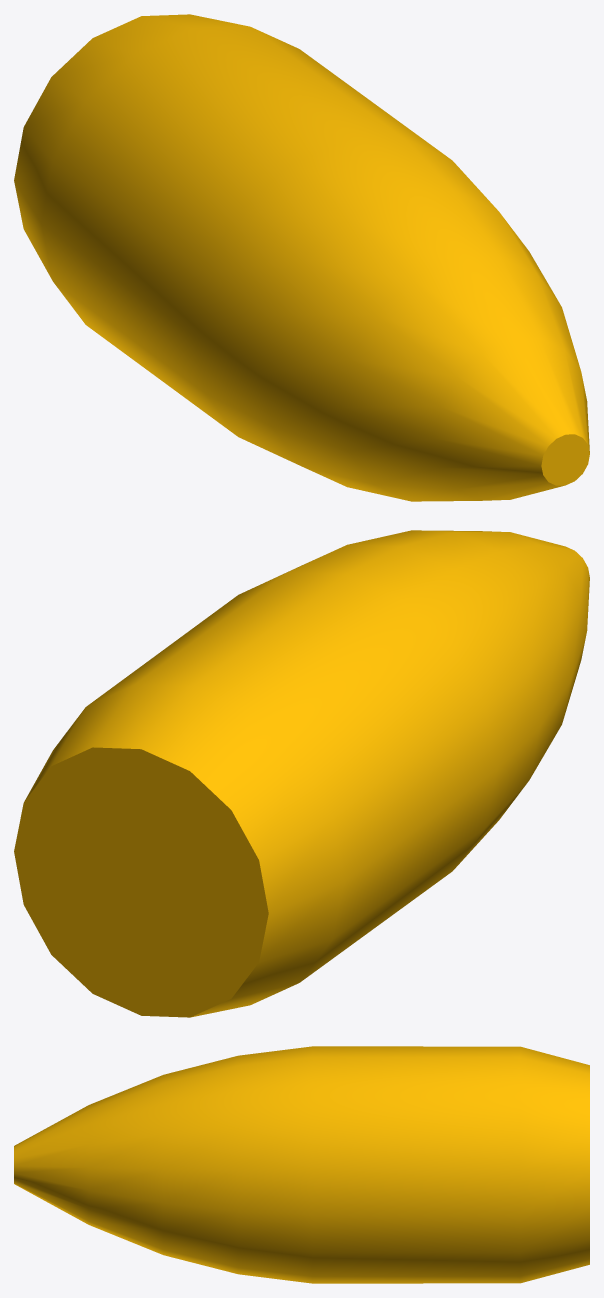
Rendered from Bullet.fbx.
The picture shows the model from 3 angles, top to bottom: view 1: azimuth 30°, elevation 25°; view 2: azimuth 150°, elevation 25°; view 3: azimuth 270°, elevation 25°; orthographic projection. The views are drawn at different scales.
Parts seen in each view (by area): view 1: Cylinder; view 2: Cylinder; view 3: Cylinder.
Part boxes in pixels (x1,y1,x2,y2): Cylinder: (14,14,589,501); Cylinder: (14,530,589,1017); Cylinder: (14,1046,589,1283).
Bounding box in the file's own units: 33.71 × 33.71 × 81.75.
